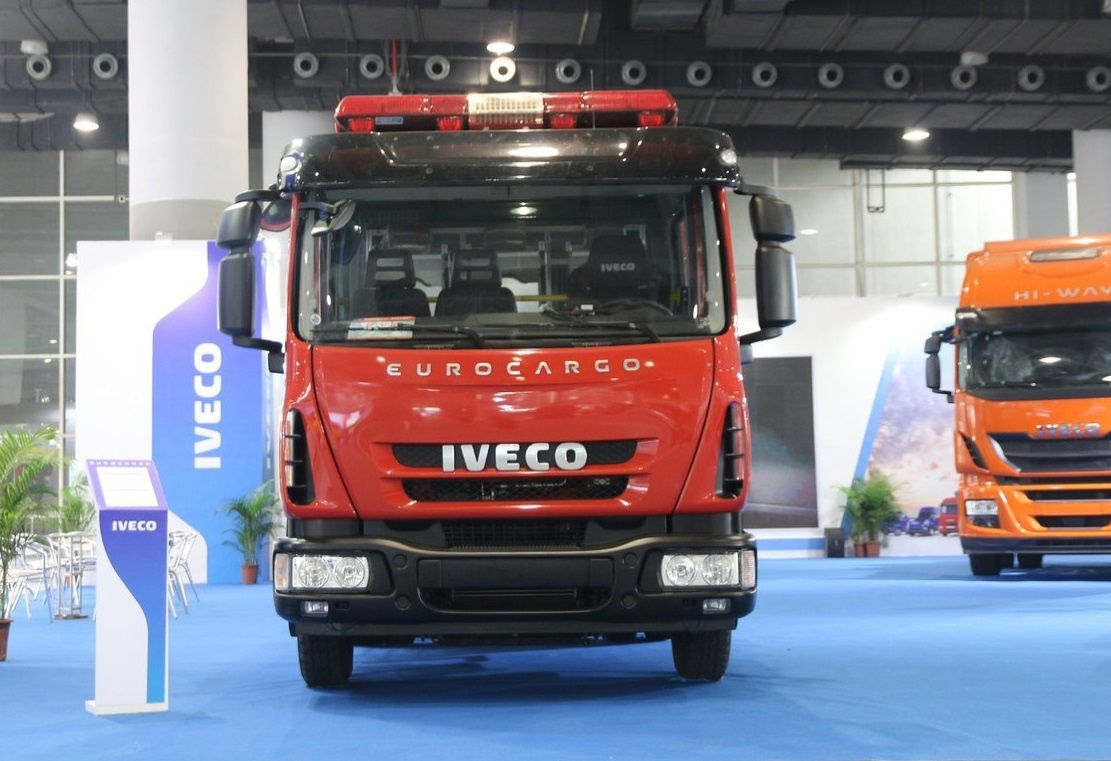heavy truck: (230, 81, 780, 681)
